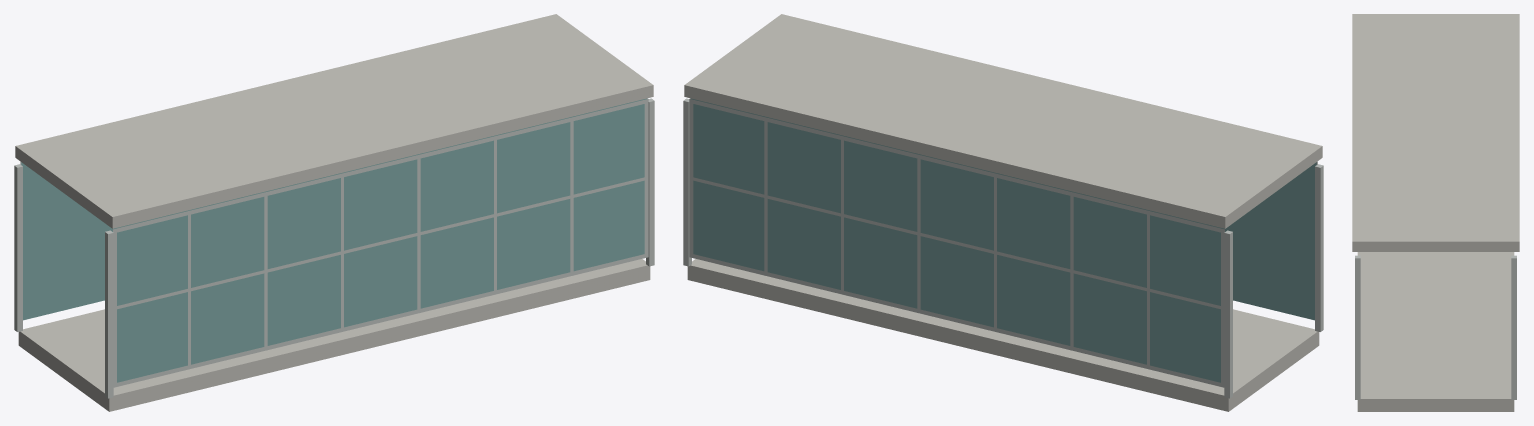
The picture shows the model from 3 angles, left to right: view 1: azimuth 30°, elevation 25°; view 2: azimuth 150°, elevation 25°; view 3: azimuth 270°, elevation 25°; orthographic projection. The views are drawn at different scales.
Parts seen in each view (by area): view 1: bridge__glass, bridge__panel, bridge__frame; view 2: bridge__glass, bridge__panel, bridge__frame; view 3: bridge__panel, bridge__frame.
Part boxes in pixels (box(x1,y1,x2,y2)): bridge__glass: box(21, 98, 647, 382); bridge__panel: box(15, 14, 653, 411); bridge__frame: box(14, 98, 654, 398); bridge__glass: box(690, 98, 1316, 382); bridge__panel: box(684, 14, 1322, 411); bridge__frame: box(683, 98, 1323, 398); bridge__panel: box(1352, 14, 1519, 411); bridge__frame: box(1355, 255, 1516, 399).
Bounding box in the file's own units: 9.75 × 3.36 × 3.
